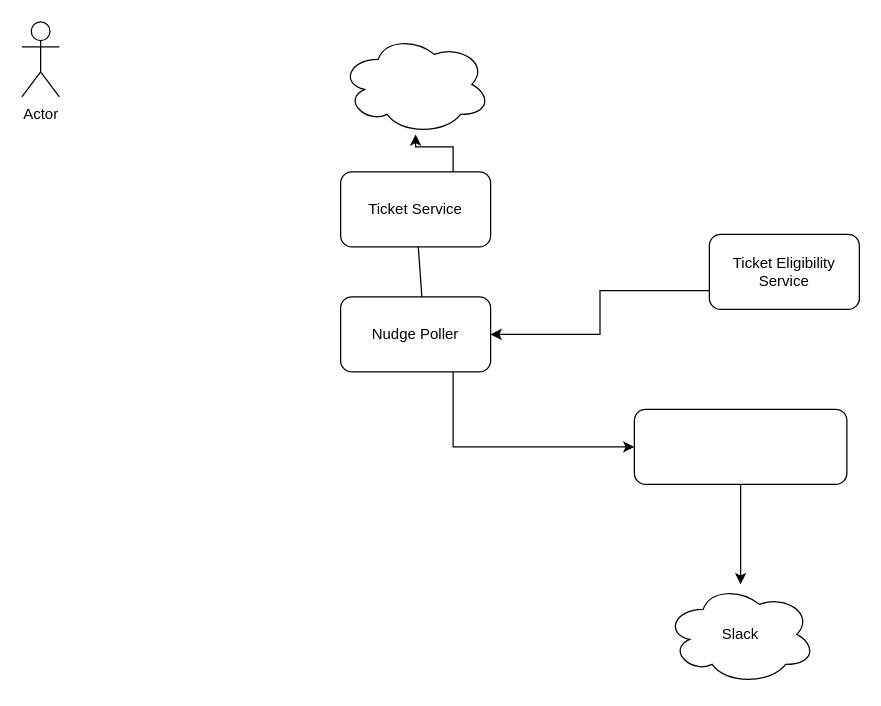
Some shapes in this 881 by 706 pixel diagram are drawn without their labels. The centre of each missing label's shape, as x and y in pixels:
"IM Connector (Slack, Teams, Google)" goes at pixel 740 446.
"ServiceNow" goes at pixel 415 83.
